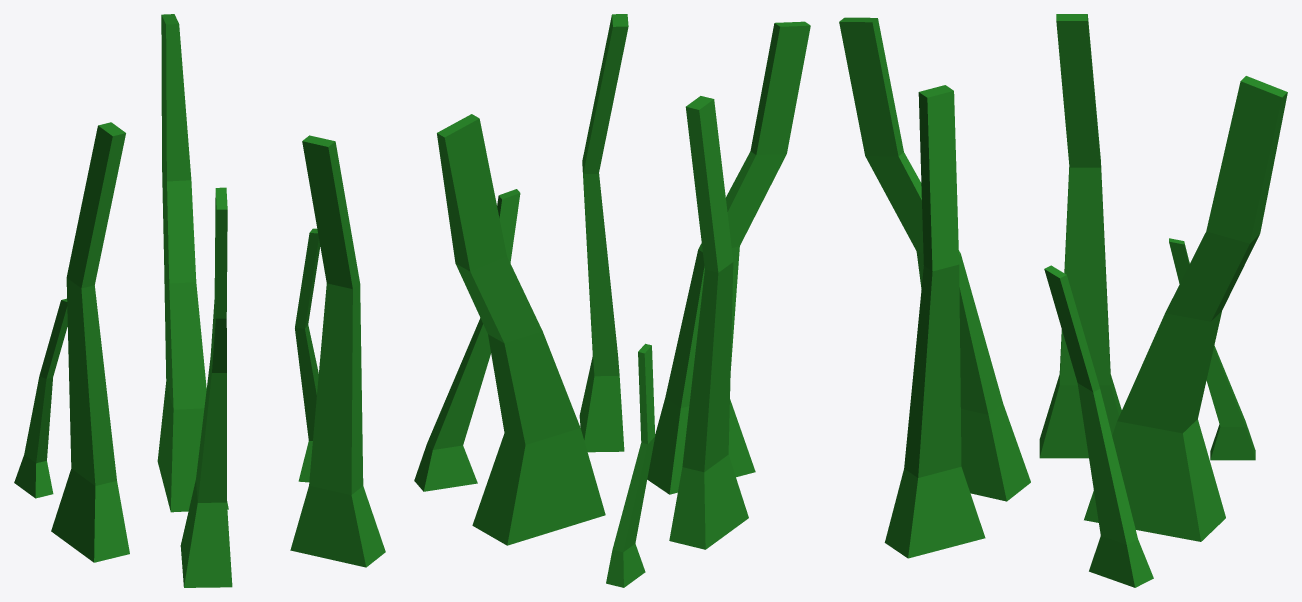
Rendered from Grass2.glb.
3 views of the same model, side by side, from view 1: azimuth 30°, elevation 25°; view 2: azimuth 150°, elevation 25°; view 3: azimuth 270°, elevation 25° (orthographic). The views are drawn at different scales.
Parts seen in each view (by area): view 1: Grass2; view 2: Grass2; view 3: Grass2.
Boxes of the visible parts, <box> form: Grass2: <box>14,14,385,587</box>; Grass2: <box>414,14,810,587</box>; Grass2: <box>839,14,1287,587</box>.
Bounding box in the file's own units: 0.1646 × 0.2336 × 0.2104.
